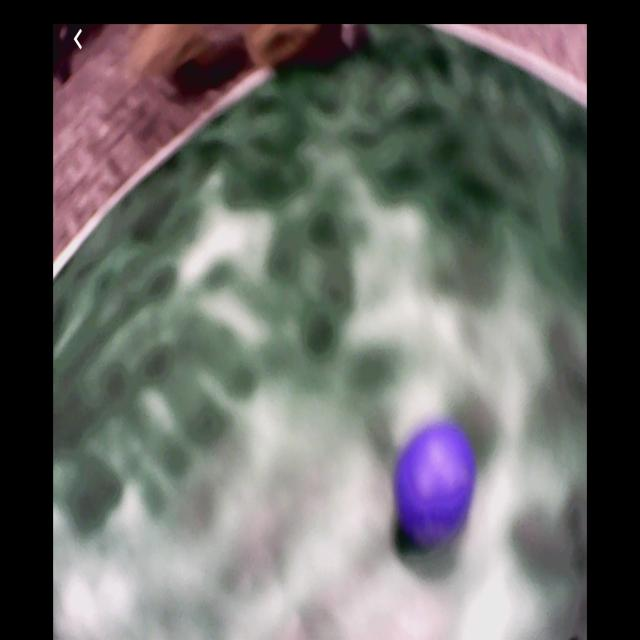ball: (394, 423, 476, 544)
